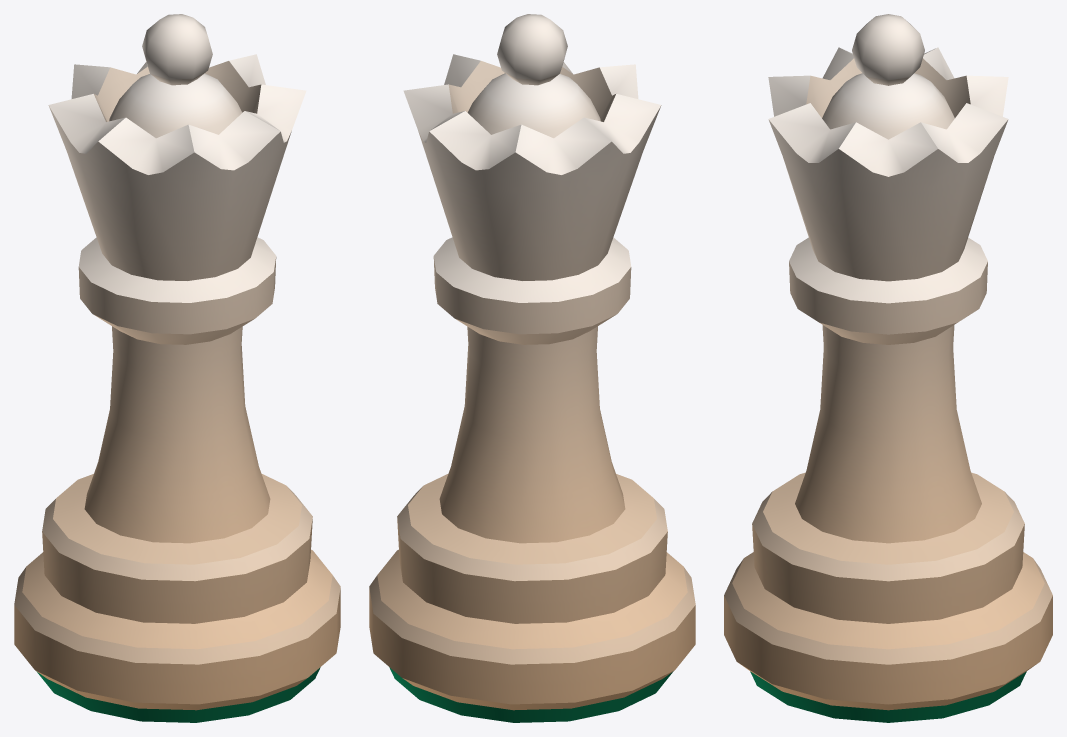
Rendered from chess_white_queen.obj.
The picture shows the model from 3 angles, left to right: view 1: azimuth 30°, elevation 25°; view 2: azimuth 150°, elevation 25°; view 3: azimuth 270°, elevation 25°; orthographic projection.
Visible parts, largest first — view 1: chess_white_queen; view 2: chess_white_queen; view 3: chess_white_queen.
Part boxes in pixels (x1,y1,x2,y2): chess_white_queen: [14, 14, 340, 722]; chess_white_queen: [369, 14, 695, 722]; chess_white_queen: [724, 14, 1052, 722].
Size of the model in its own units: 0.75 by 1.62 by 0.75.
Materials: 1 (1 with a texture image).
